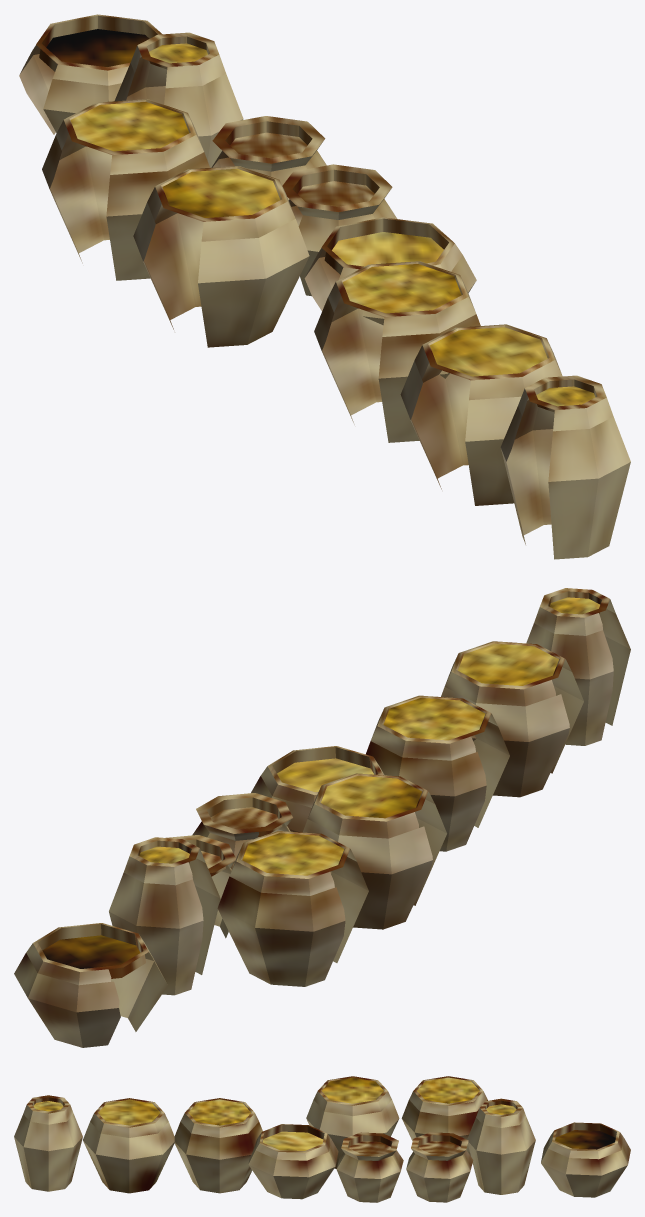
File: props_canoe_medium.dae
3 renders of one model, top to bottom at view 1: azimuth 30°, elevation 25°; view 2: azimuth 150°, elevation 25°; view 3: azimuth 270°, elevation 25°, orthographic. The views are drawn at different scales.
Visible parts, largest first — view 1: a_canoe_medium_merc; view 2: a_canoe_medium_merc; view 3: a_canoe_medium_merc.
Boxes of the visible parts, x1,y1,x2,y2 form: a_canoe_medium_merc: (19,14,630,559); a_canoe_medium_merc: (14,588,630,1047); a_canoe_medium_merc: (14,1076,630,1202).
Bounding box in the file's own units: 1.8 × 6.96 × 1.07.
